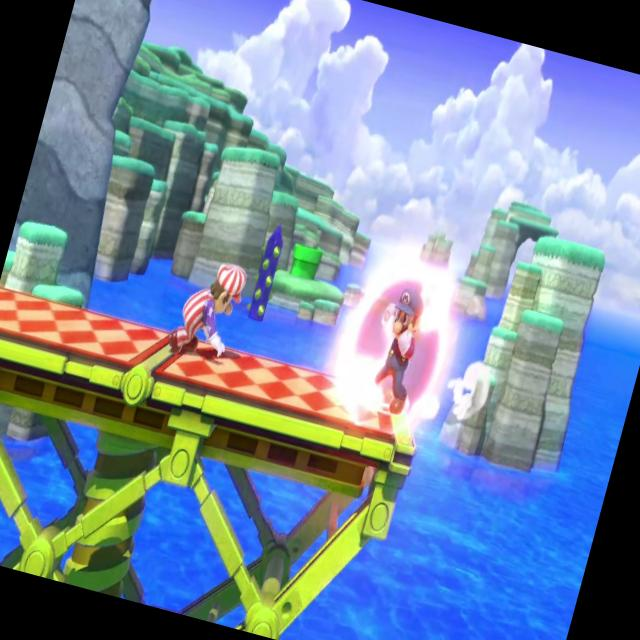Mario: (164, 246, 254, 374)
Mario-guard: (342, 259, 452, 427)
